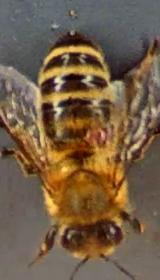varroa_mite: (82, 116, 115, 150)
